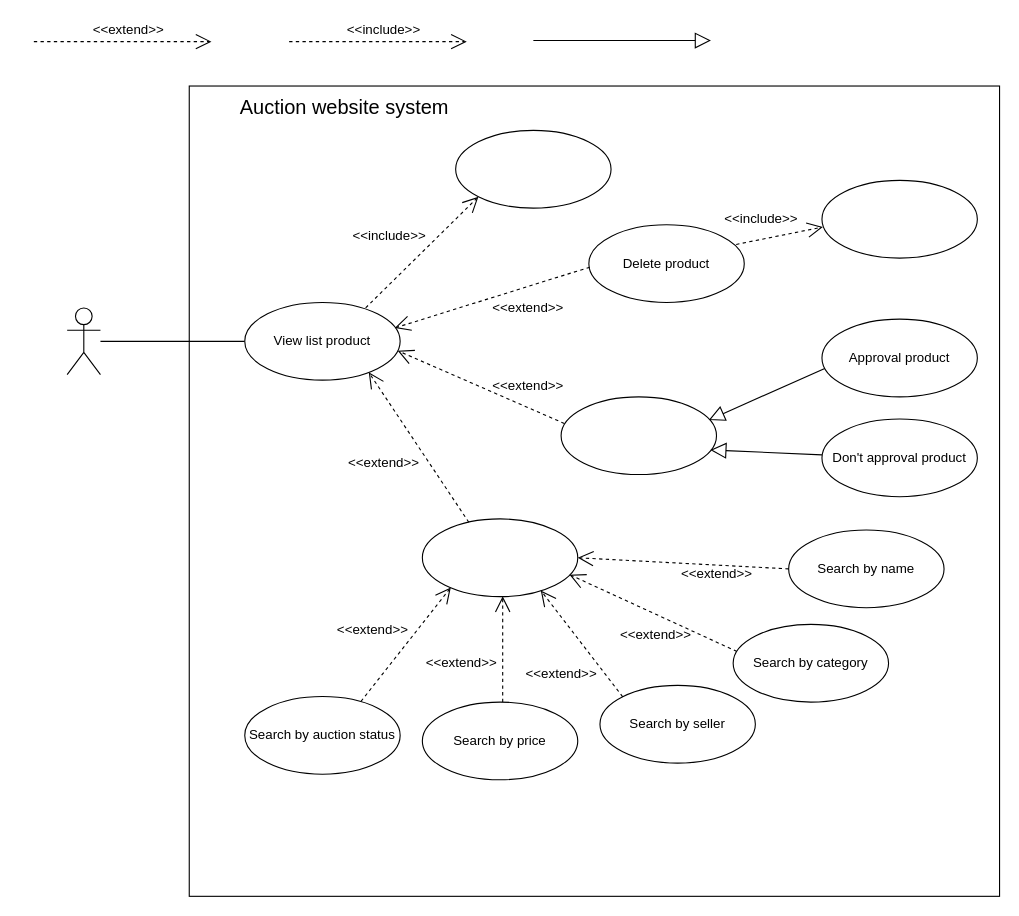
The diagram is 1019 pixels wide and 916 high, and some of its shapes have lost their labels. Here are the shapes that lost their labels. From the top down, the centre of each, then its label:
the point at 533,168: Login
the point at 899,218: Confirm Delete
the point at 83,341: Admin
the point at 638,435: Review product
the point at 499,557: Search product
